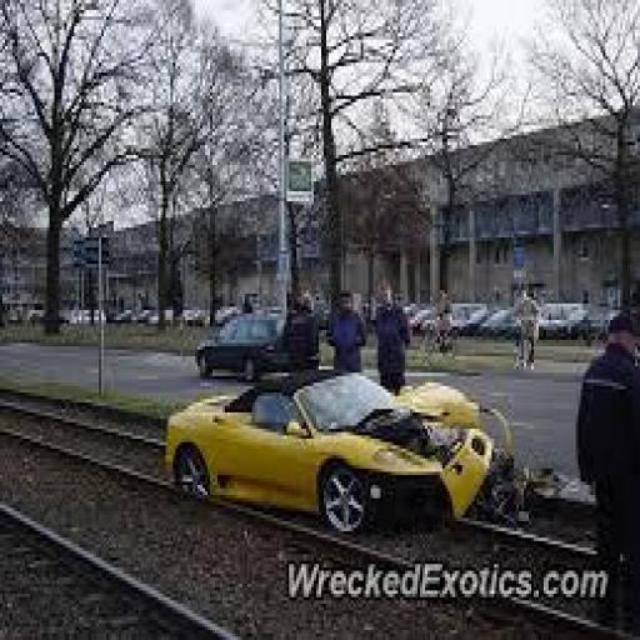crash: (323, 382, 520, 523)
